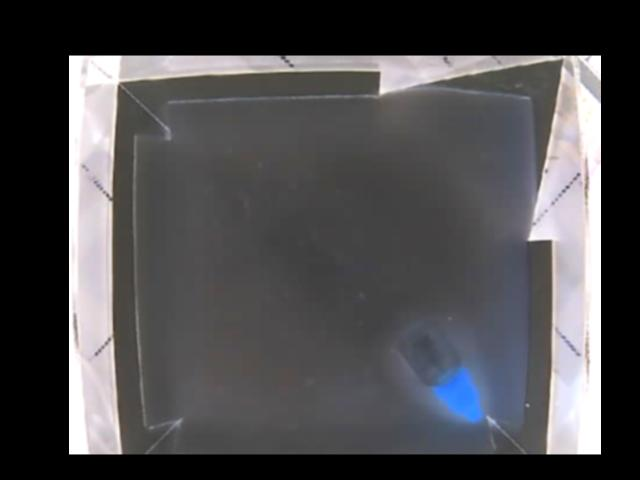Bottle: (394, 317, 485, 424)
